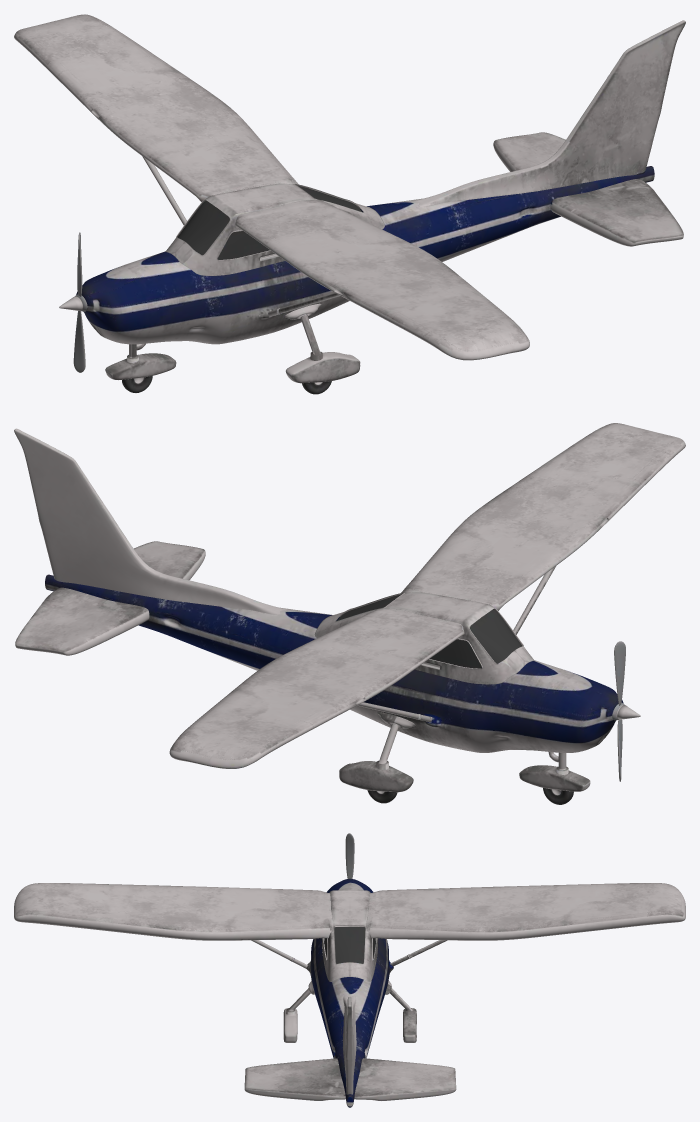
File: cessna.glb
The picture shows the model from 3 angles, top to bottom: view 1: azimuth 30°, elevation 25°; view 2: azimuth 150°, elevation 25°; view 3: azimuth 270°, elevation 25°; orthographic projection. The views are drawn at different scales.
Visible parts, largest first — view 1: cockpit_plane_0; view 2: cockpit_plane_0; view 3: cockpit_plane_0.
Part boxes in pixels (box(x1,y1,x2,y2)): cockpit_plane_0: box(14, 14, 685, 394); cockpit_plane_0: box(14, 423, 685, 804); cockpit_plane_0: box(14, 833, 685, 1107).
Bounding box in the file's own units: 14.05 × 5.23 × 17.49.
1 material, 1 textured.
